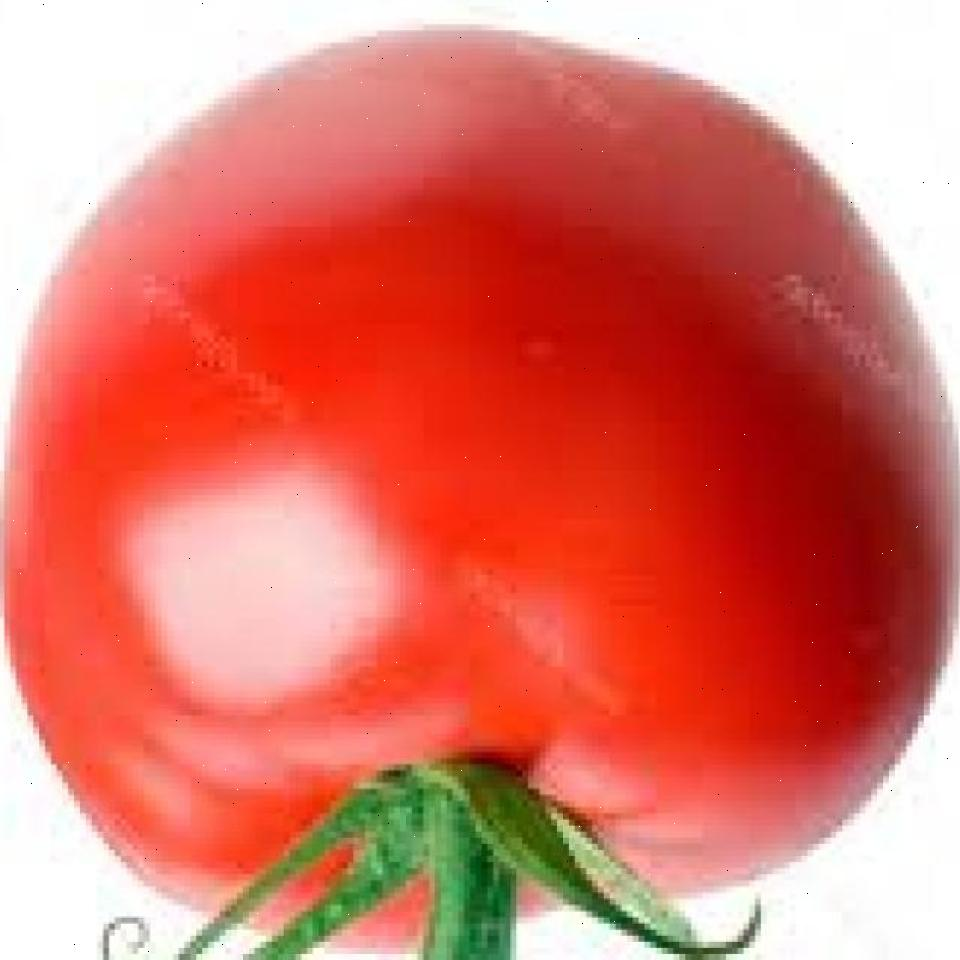Healthy: (9, 28, 960, 950)
